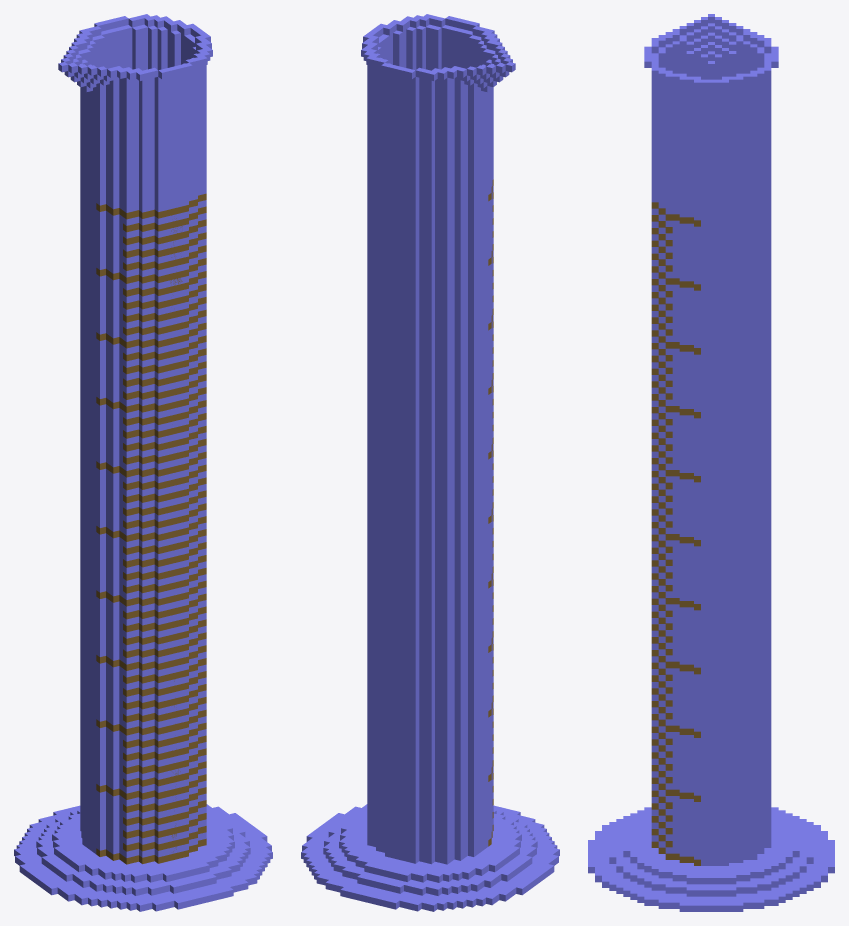
Rendered from Measuring cylinder1-5-1.fbx.
The picture shows the model from 3 angles, left to right: view 1: azimuth 30°, elevation 25°; view 2: azimuth 150°, elevation 25°; view 3: azimuth 270°, elevation 25°; orthographic projection.
Visible parts, largest first — view 1: Measuring cylinder1-5-1.001, Measuring cylinder1-5-1.002; view 2: Measuring cylinder1-5-1.001, Measuring cylinder1-5-1.002; view 3: Measuring cylinder1-5-1.001, Measuring cylinder1-5-1.002.
Part boxes in pixels (x1,y1,x2,y2): Measuring cylinder1-5-1.001: [14, 14, 272, 911]; Measuring cylinder1-5-1.002: [96, 193, 206, 864]; Measuring cylinder1-5-1.001: [301, 14, 559, 911]; Measuring cylinder1-5-1.002: [488, 179, 493, 846]; Measuring cylinder1-5-1.001: [588, 14, 834, 911]; Measuring cylinder1-5-1.002: [651, 202, 700, 865].
Size of the model in its own units: 3.5 by 12.6 by 3.5.
